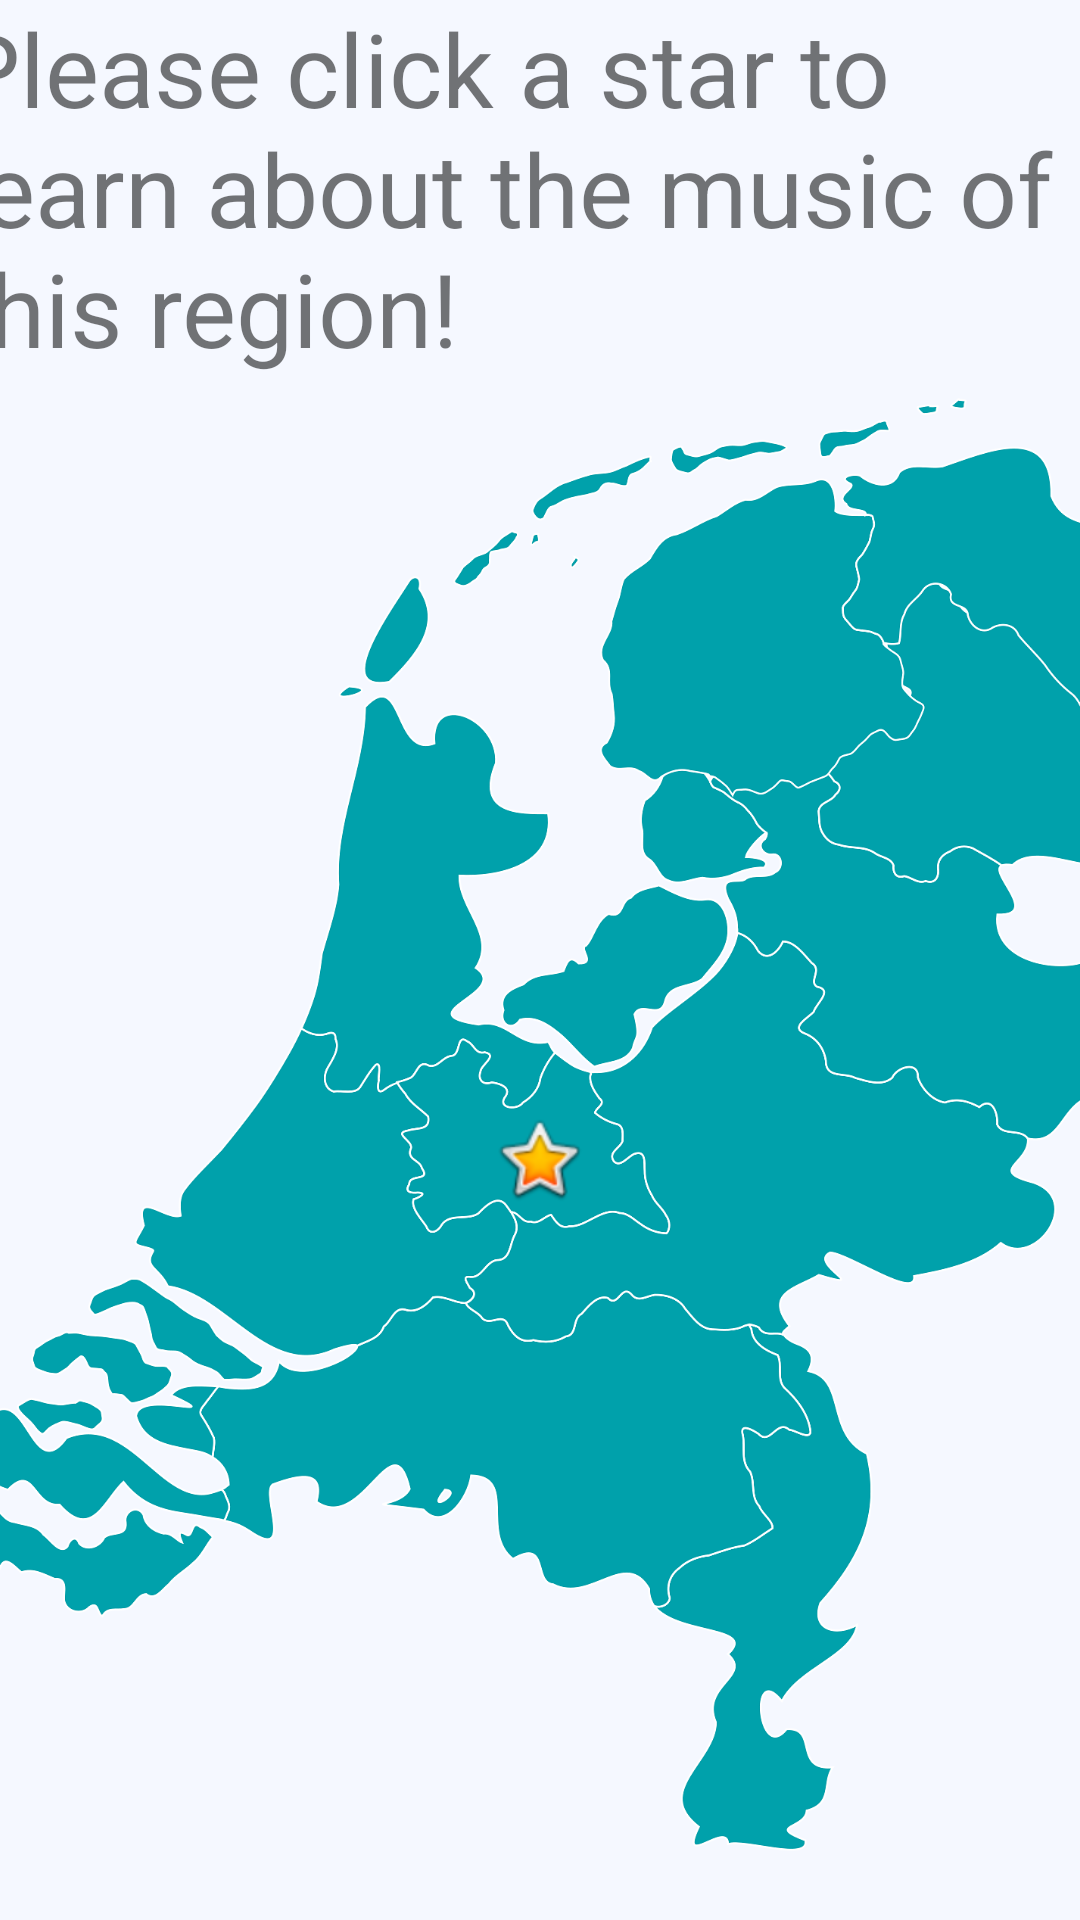

Icons on this 1080*1920 Android screen, each with the point to tap as [x,y]:
star on: [540,1159]
